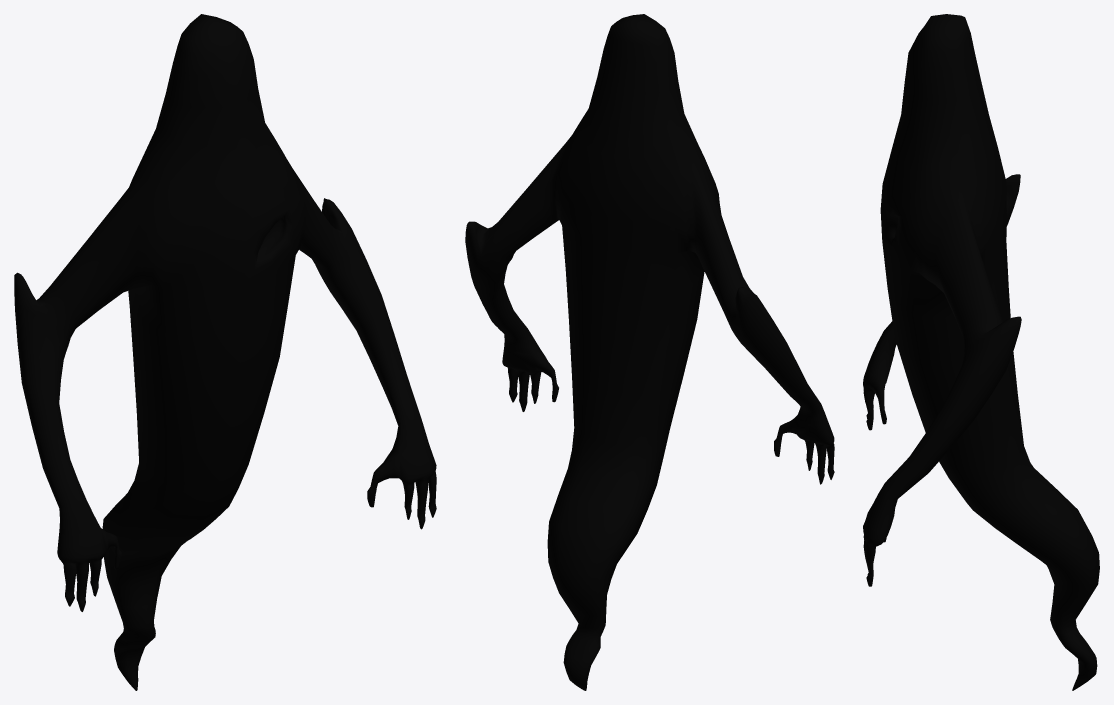
File: GhostFreakold.obj
3 renders of one model, left to right at view 1: azimuth 30°, elevation 25°; view 2: azimuth 150°, elevation 25°; view 3: azimuth 270°, elevation 25°, orthographic. The views are drawn at different scales.
Visible parts, largest first — view 1: Cube_Cube.001; view 2: Cube_Cube.001; view 3: Cube_Cube.001.
Part boxes in pixels (left/top/right/bottom): Cube_Cube.001: left=14, top=14, right=436, bottom=690; Cube_Cube.001: left=465, top=14, right=834, bottom=690; Cube_Cube.001: left=863, top=14, right=1099, bottom=690.
Size of the model in its own units: 2.75 by 5.04 by 1.59.
Materials: 1 (1 with a texture image).
